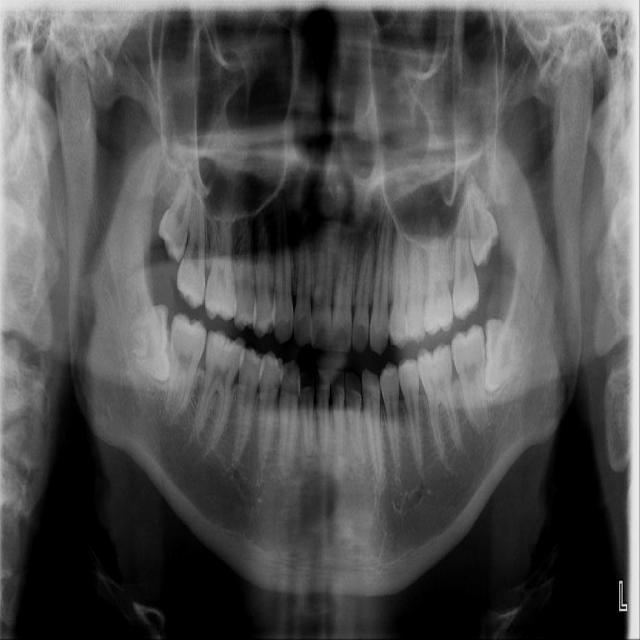impacted tooth: (119, 304, 171, 381), (484, 319, 532, 392), (156, 165, 192, 260), (464, 172, 497, 263)
